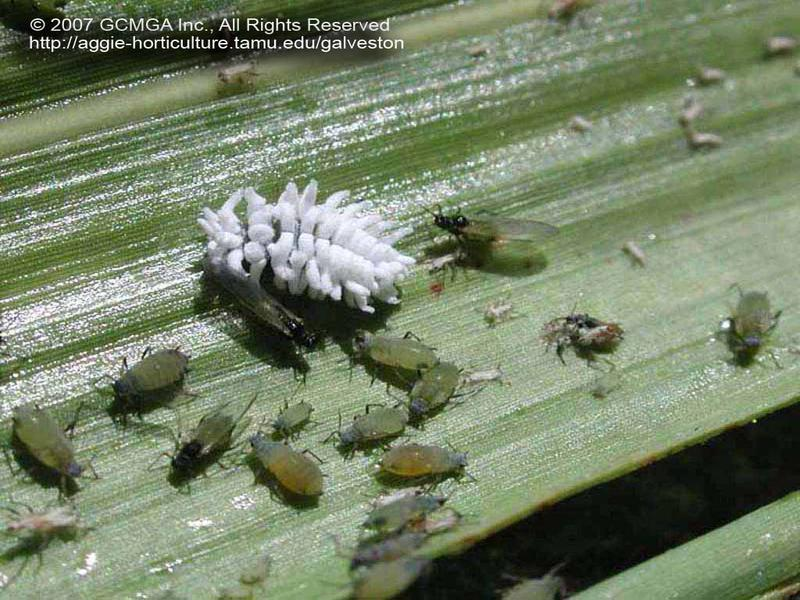Mealy_bug: (444, 202, 786, 398), (114, 346, 471, 503), (177, 160, 421, 317)
